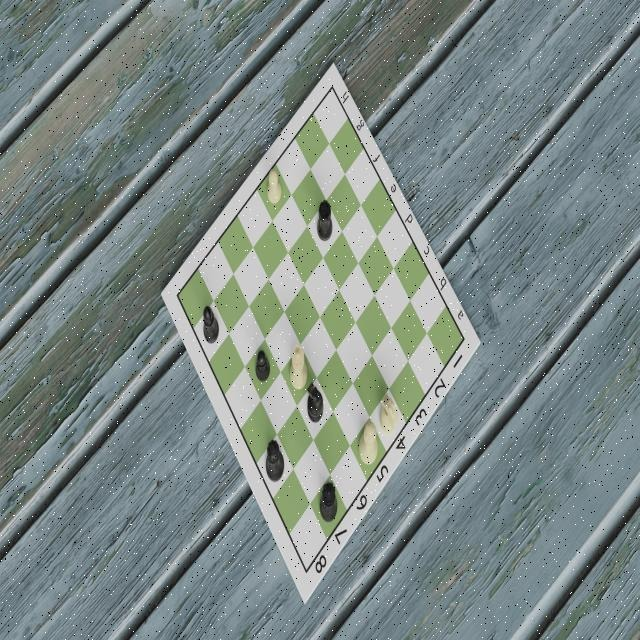black-bishop: (203, 304, 220, 348)
black-king: (265, 437, 285, 483)
black-knight: (306, 381, 325, 426)
black-pawn: (253, 347, 270, 385)
black-queen: (318, 477, 337, 525)
black-rook: (316, 196, 334, 244)
white-king: (357, 419, 378, 469)
white-knight: (380, 393, 400, 437)
white-pawn: (265, 166, 282, 205)
white-queen: (287, 342, 308, 393)
